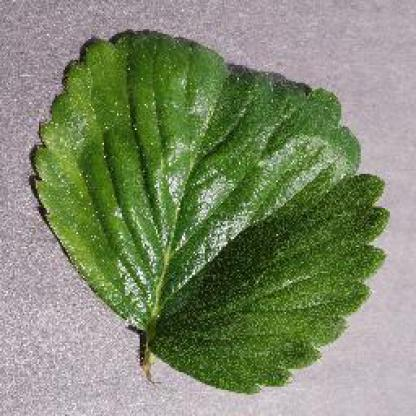healthy: (24, 26, 398, 392)
